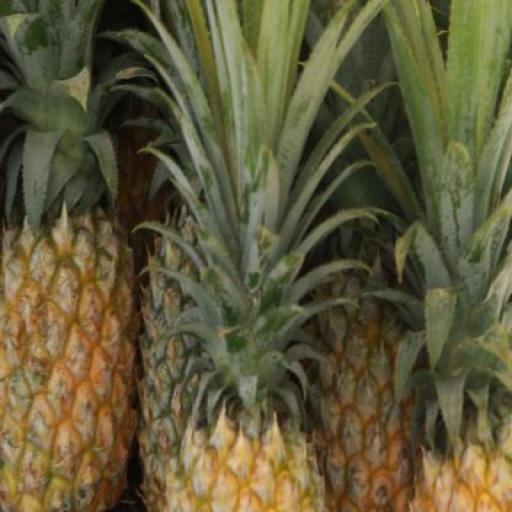------------------------------: (0, 214, 137, 512)
Pineapple - v8 v1: (160, 394, 318, 512)
